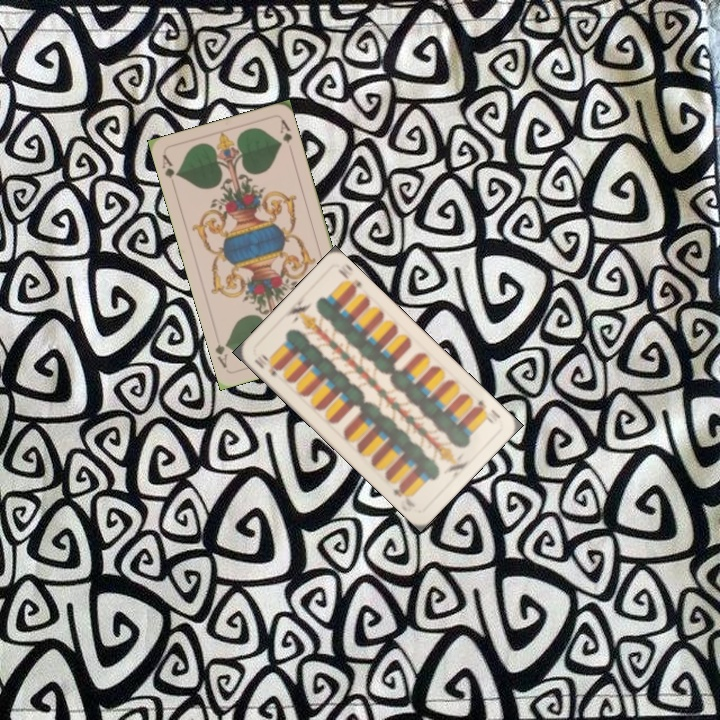E10: (470, 396, 503, 427), (250, 350, 283, 379)
GA: (158, 151, 181, 181)
